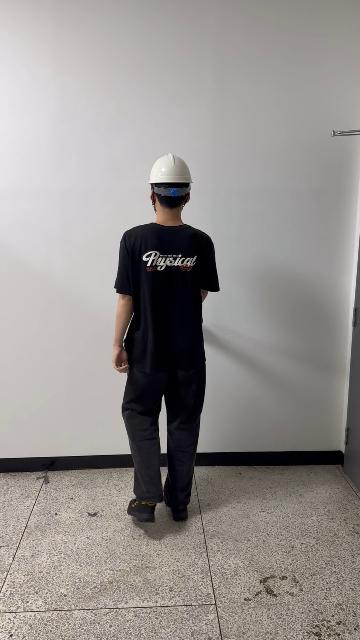helmet_worn: (148, 153, 193, 185)
shoe_worn: (127, 498, 156, 523), (169, 506, 188, 521)
vest_not_worn: (123, 227, 211, 391)
